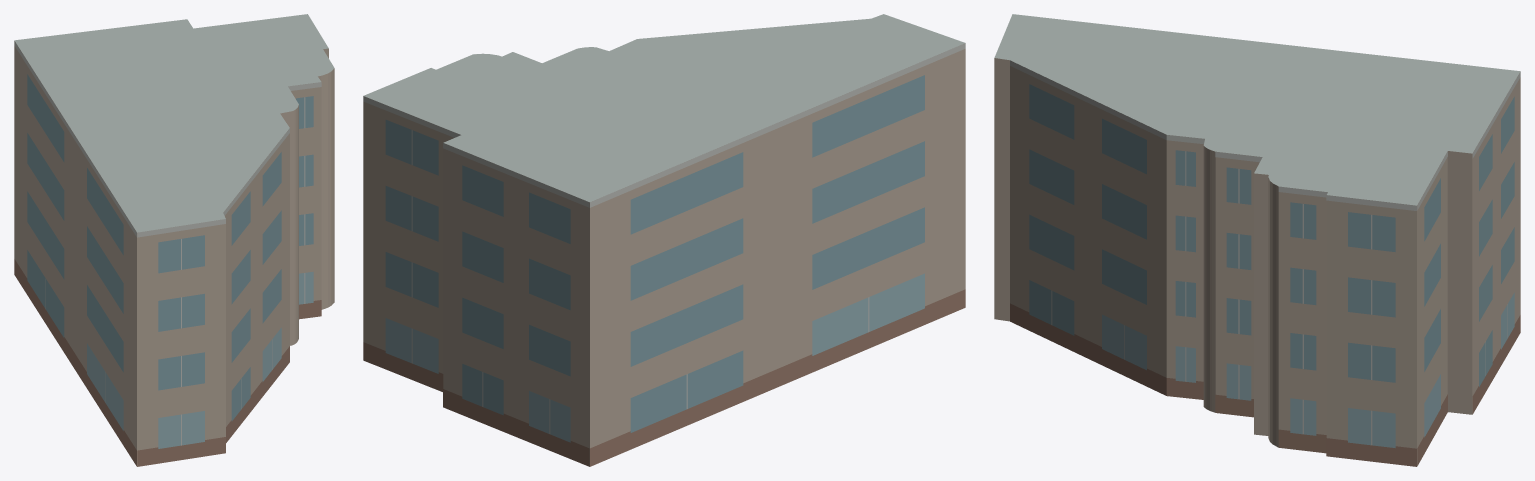
Rendered from survey-upis-32668374.glb.
The picture shows the model from 3 angles, left to right: view 1: azimuth 30°, elevation 25°; view 2: azimuth 150°, elevation 25°; view 3: azimuth 270°, elevation 25°; orthographic projection. The views are drawn at different scales.
Parts seen in each view (by area): view 1: survey-upis-32668374.tmp; view 2: survey-upis-32668374.tmp; view 3: survey-upis-32668374.tmp.
Part boxes in pixels (x1,y1,x2,y2): survey-upis-32668374.tmp: (14,14,334,466); survey-upis-32668374.tmp: (363,14,965,466); survey-upis-32668374.tmp: (994,14,1520,466).
Bounding box in the file's own units: 18.18 × 11.55 × 21.1.
